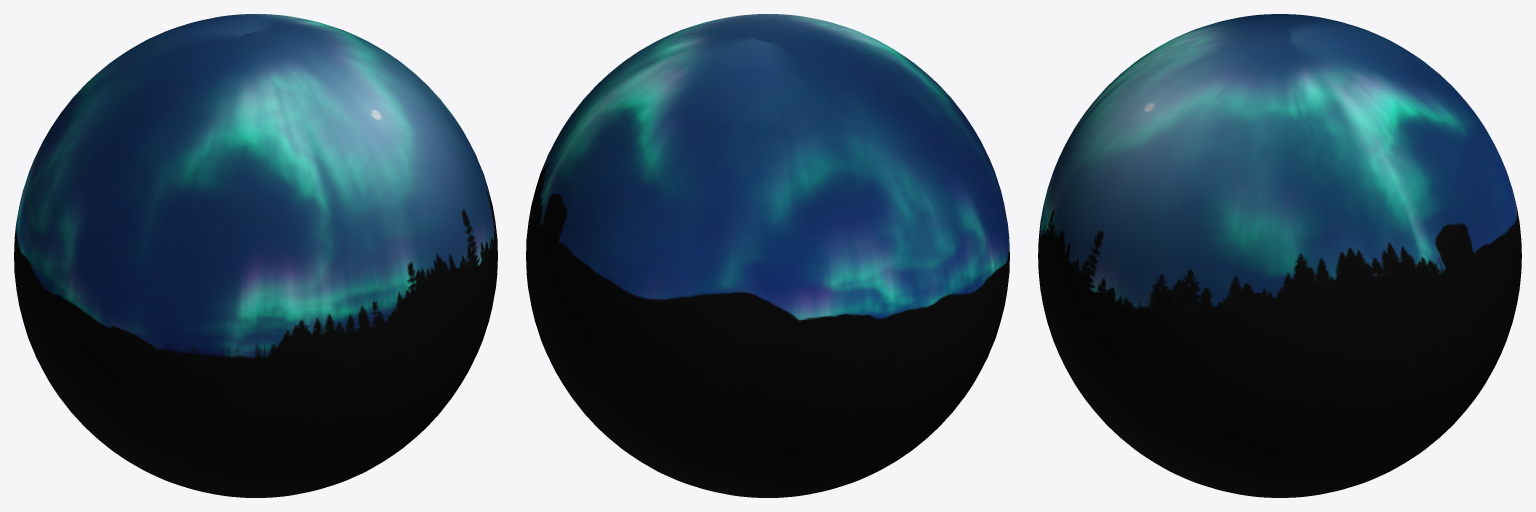
The model's file is aurora-sky.gltf.
3 views of the same model, side by side, from view 1: azimuth 30°, elevation 25°; view 2: azimuth 150°, elevation 25°; view 3: azimuth 270°, elevation 25° (orthographic).
Parts seen in each view (by area): view 1: Sphere001; view 2: Sphere001; view 3: Sphere001.
Boxes of the visible parts, left/top/right/bottom form: Sphere001: left=14, top=14, right=497, bottom=497; Sphere001: left=526, top=14, right=1009, bottom=497; Sphere001: left=1038, top=14, right=1521, bottom=497.
Bounding box in the file's own units: 200 × 200 × 200.
1 material, 1 textured.
